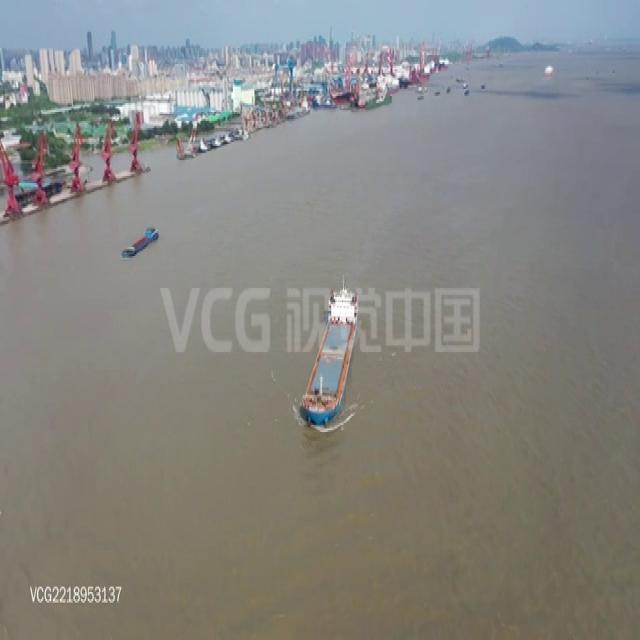cargoship: (298, 275, 362, 426), (118, 222, 159, 264)
